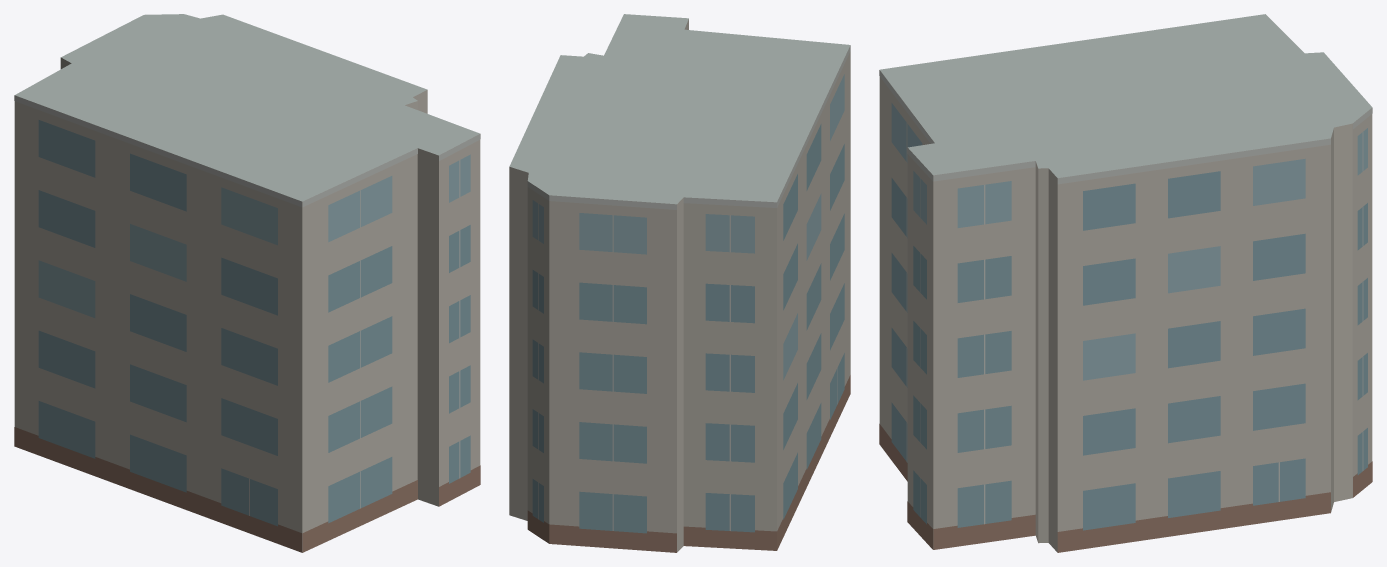
The model's file is survey-upis-32629549.glb.
3 renders of one model, left to right at view 1: azimuth 30°, elevation 25°; view 2: azimuth 150°, elevation 25°; view 3: azimuth 270°, elevation 25°, orthographic. The views are drawn at different scales.
Visible parts, largest first — view 1: survey-upis-32629549.tmp; view 2: survey-upis-32629549.tmp; view 3: survey-upis-32629549.tmp.
Part boxes in pixels (box(x1,y1,x2,y2)): survey-upis-32629549.tmp: box(14, 14, 480, 552); survey-upis-32629549.tmp: box(509, 14, 850, 552); survey-upis-32629549.tmp: box(879, 14, 1372, 552).
Size of the model in its own units: 13.83 by 14.7 by 17.54.
